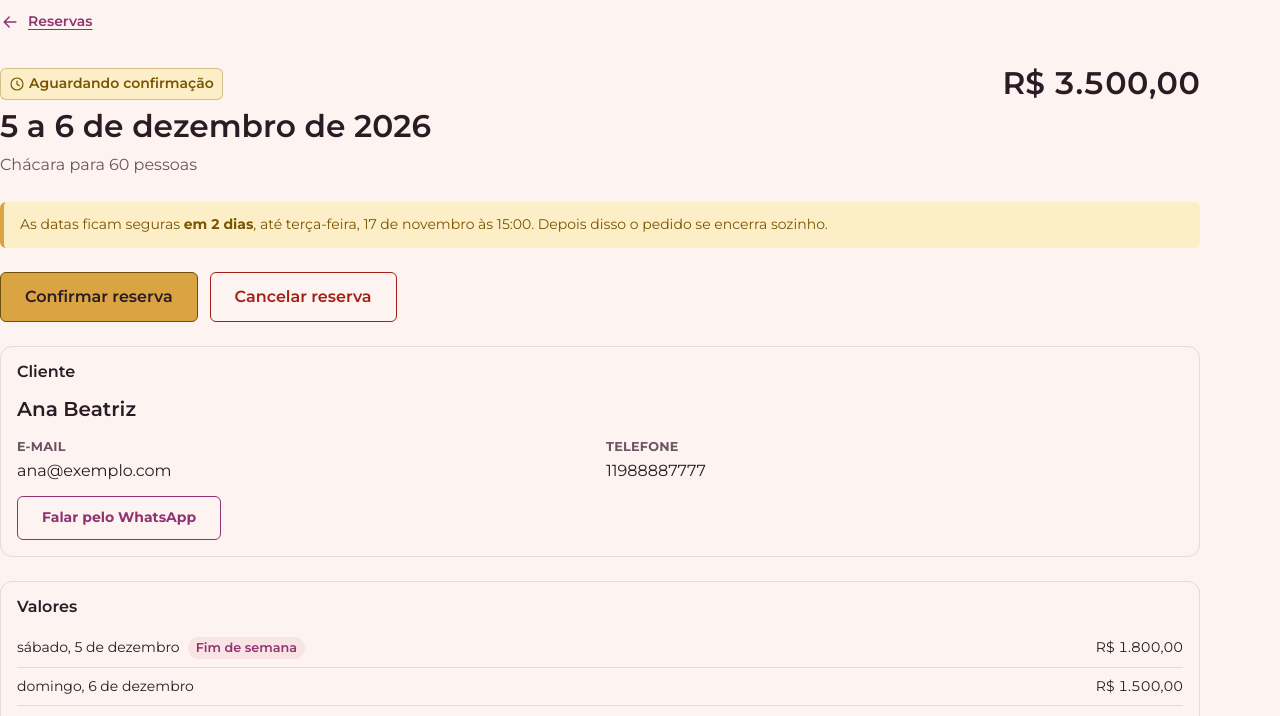
BookingDetailPage, painel › explica o que a confirmação causa antes de aplicar
Click the button "Confirmar reserva".
click(99, 297)  # box x1=0 y1=272 x2=198 y2=322
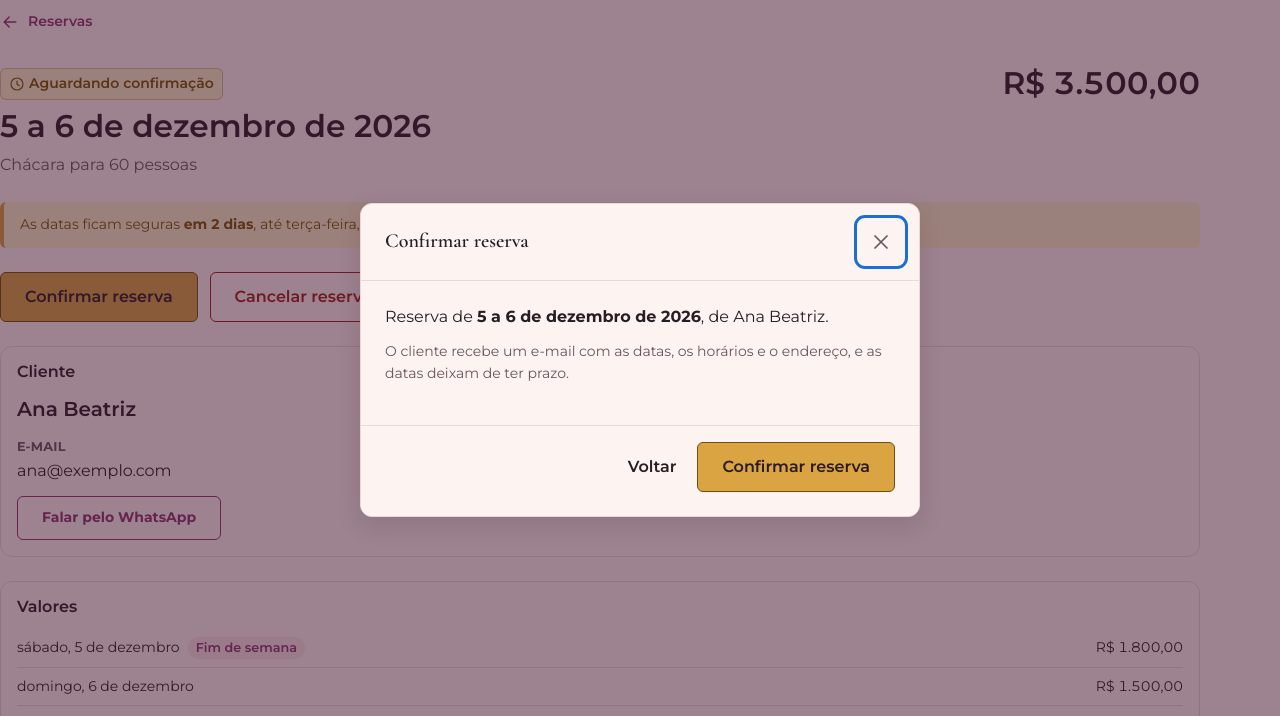
Check: the text "recebe um e-mail com as datas" is shown, box x1=385 y1=342 x2=882 y2=382
Check: the text "Reserva de 5 a 6 de dezembro de 2026, de Ana Beatriz." is shown, box x1=385 y1=304 x2=895 y2=329
